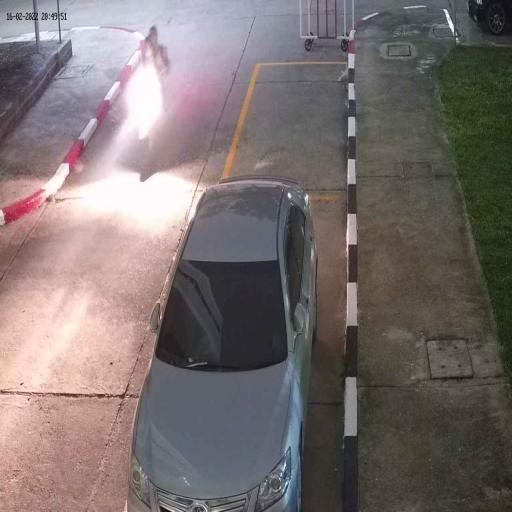car: (128, 179, 319, 512)
motorcycle: (130, 81, 166, 177)
